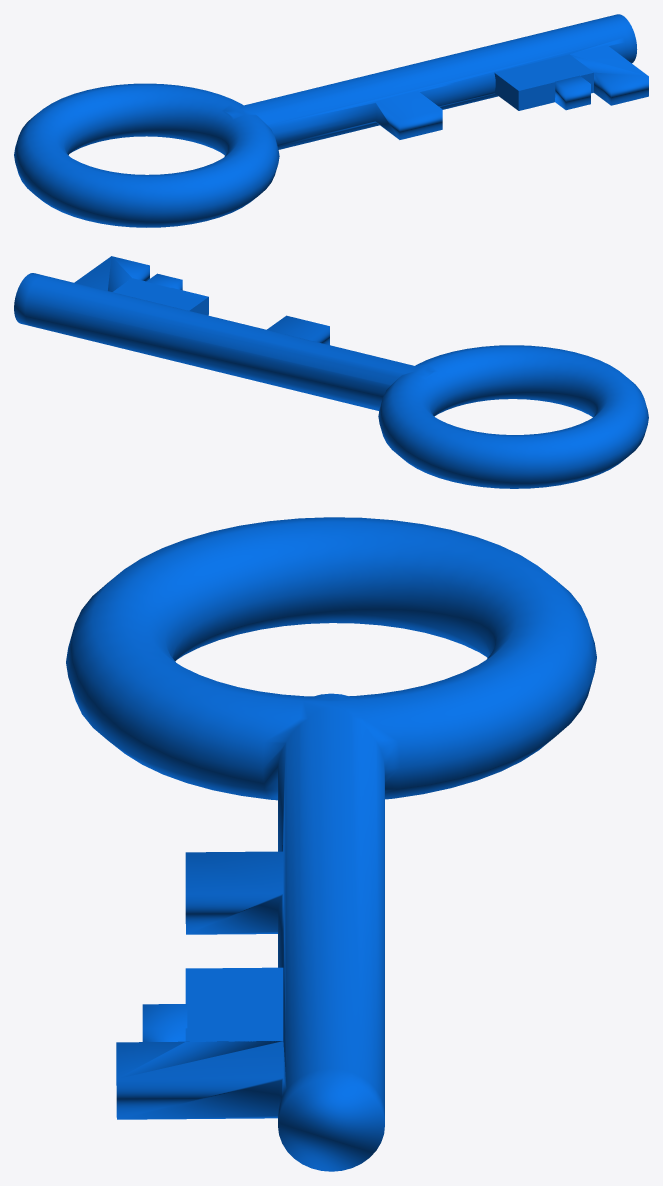
Rendered from Klucz Bo Tak 1.fbx.
3 views of the same model, one above another, from view 1: azimuth 30°, elevation 25°; view 2: azimuth 150°, elevation 25°; view 3: azimuth 270°, elevation 25° (orthographic). The views are drawn at different scales.
Parts seen in each view (by area): view 1: Klucz bo tak 1; view 2: Klucz bo tak 1; view 3: Klucz bo tak 1.
Boxes of the visible parts, <box> form: Klucz bo tak 1: <box>14,14,648,227</box>; Klucz bo tak 1: <box>14,256,648,488</box>; Klucz bo tak 1: <box>66,517,596,1171</box>.
Bounding box in the file's own units: 6.43 × 0.5188 × 2.5.
